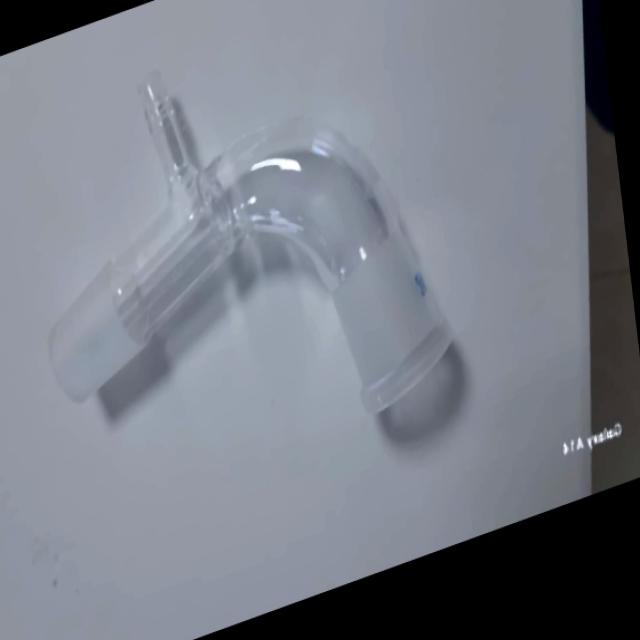Angled Extension for Vacuum Distillation: (13, 0, 482, 537)
